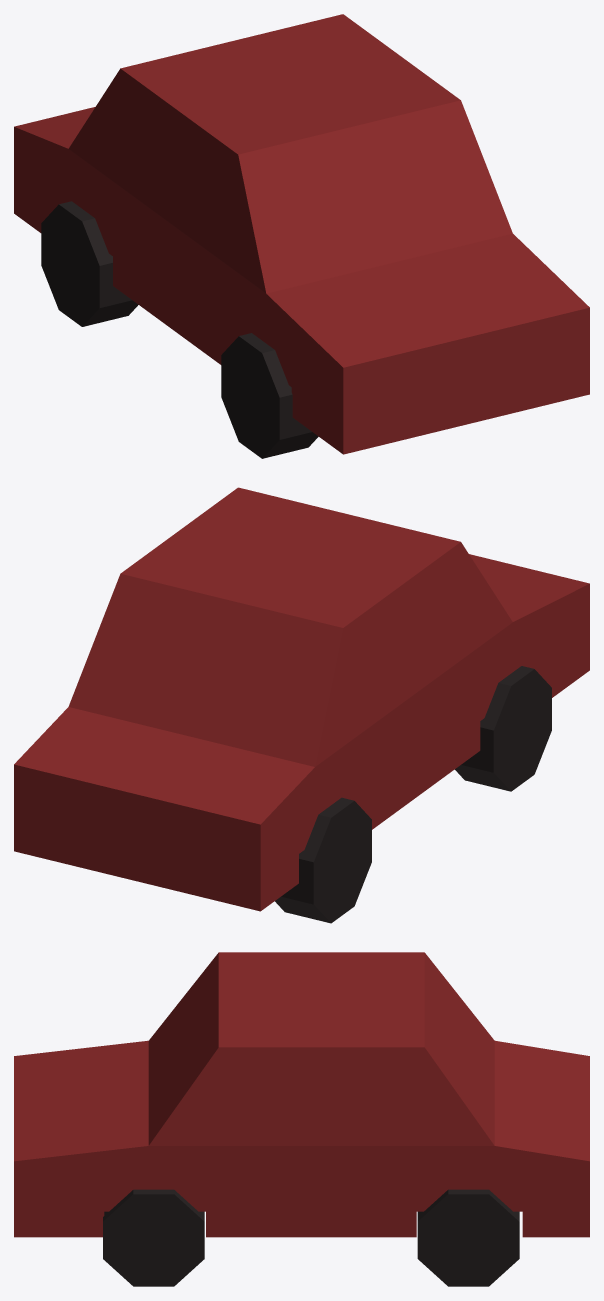
The model's file is redcar.fbx.
3 views of the same model, one above another, from view 1: azimuth 30°, elevation 25°; view 2: azimuth 150°, elevation 25°; view 3: azimuth 270°, elevation 25° (orthographic). The views are drawn at different scales.
Visible parts, largest first — view 1: redcar; view 2: redcar; view 3: redcar.
Boxes of the visible parts, x1=… form: redcar: x1=14, y1=14, x2=589, y2=458; redcar: x1=14, y1=487, x2=589, y2=923; redcar: x1=14, y1=952, x2=589, y2=1286.
Size of the model in its own units: 1.1 by 1.02 by 2.31.
